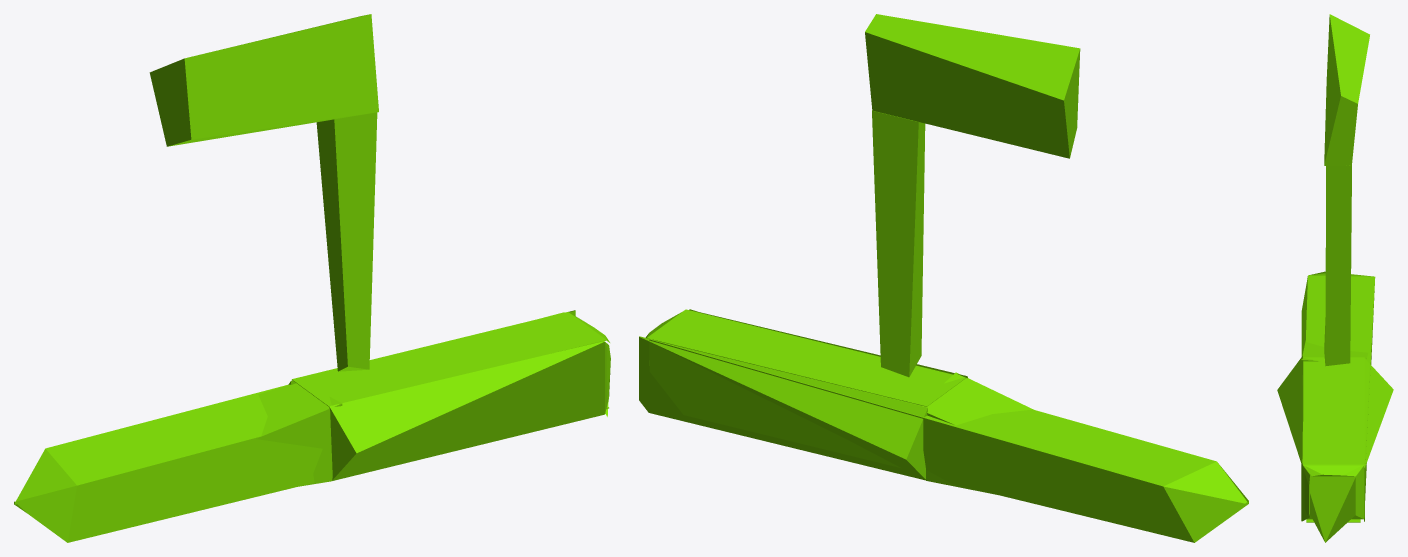
The model's file is rtxonblend.glb.
3 views of the same model, side by side, from view 1: azimuth 30°, elevation 25°; view 2: azimuth 150°, elevation 25°; view 3: azimuth 270°, elevation 25° (orthographic). The views are drawn at different scales.
Parts seen in each view (by area): view 1: Cube; view 2: Cube; view 3: Cube.
Boxes of the visible parts, box(x1,y1,x2,y2) form: Cube: box(14, 14, 610, 542); Cube: box(639, 14, 1248, 542); Cube: box(1277, 14, 1393, 542).
Size of the model in its own units: 16.41 by 12.25 by 3.54.
